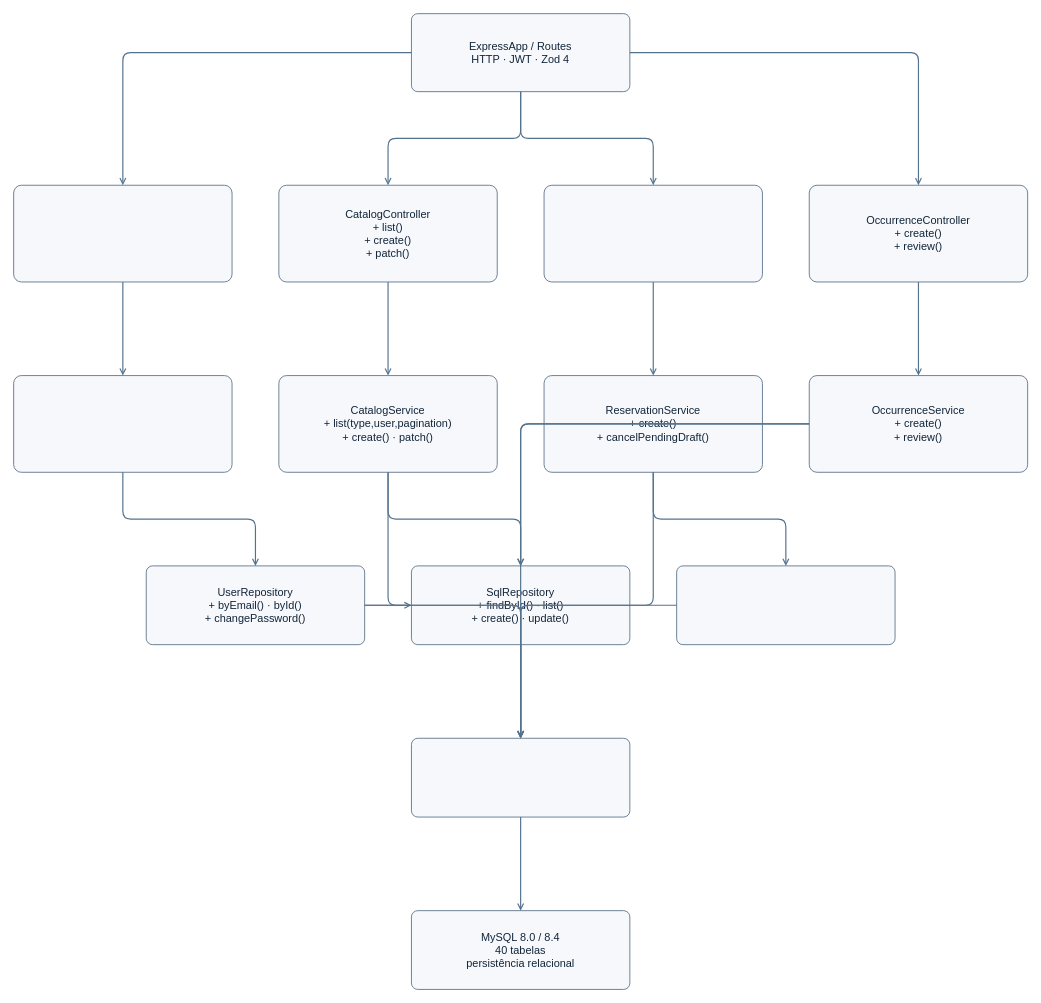
This 1041x1003 diagram has some shape labels left out. Here are the shapes that lost their labels. From the top down, the centre of each, then its label:
the point at 122,233: AuthController + register() + login() + changePassword()
the point at 652,233: ReservationController + create() + cancel()
the point at 122,423: AuthService + register() + authenticate() + changePassword()
the point at 785,605: ReservationRepository + find() · statusId() + anyPayment()
the point at 520,777: mysql2 Pool / Connection SQL parametrizado transações
